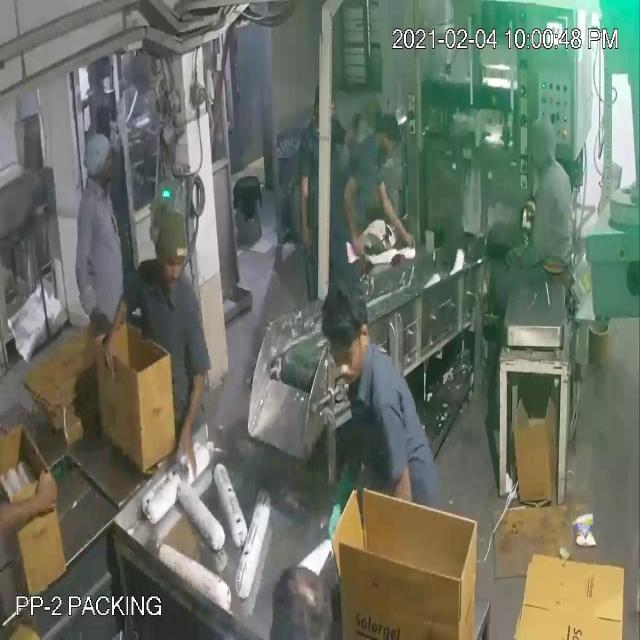gloves: (316, 443, 373, 551)
no-gloves: (170, 350, 220, 486), (1, 463, 77, 538), (66, 194, 102, 320), (369, 170, 419, 256), (294, 152, 320, 261), (103, 280, 129, 387), (344, 156, 366, 265)
